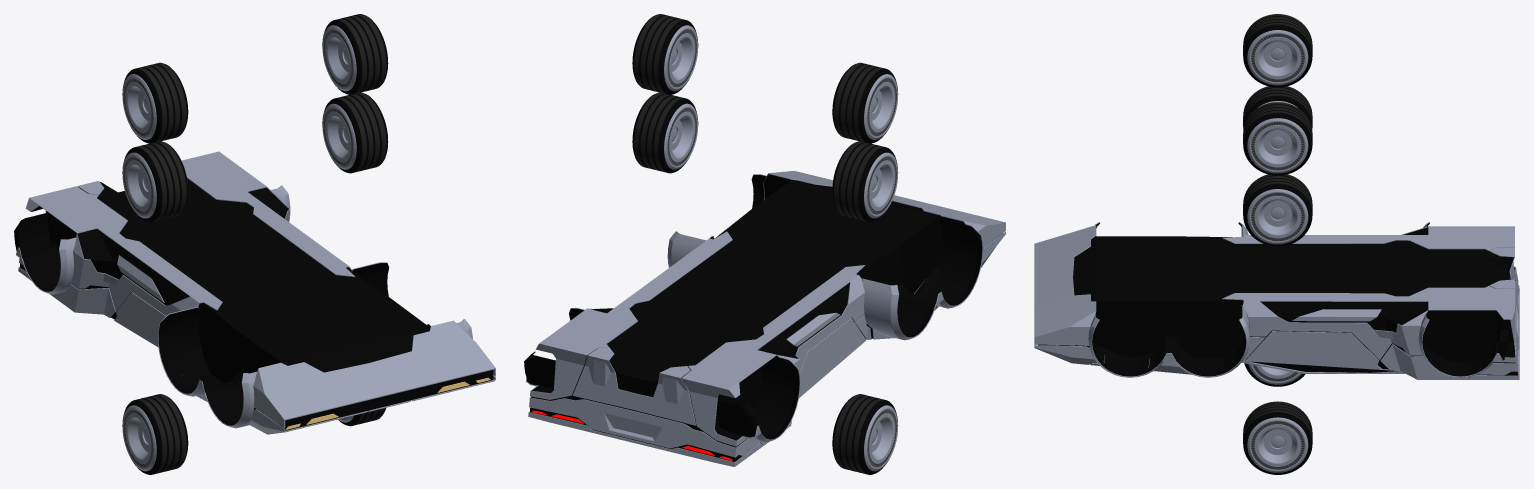
File: test_car_baked.fbx
The picture shows the model from 3 angles, left to right: view 1: azimuth 30°, elevation 25°; view 2: azimuth 150°, elevation 25°; view 3: azimuth 270°, elevation 25°; orthographic projection. The views are drawn at different scales.
Parts seen in each view (by area): view 1: Cube.012, Cube.011, Circle.003, Circle.001, SFV_wheel_01|Plane.004|Dupli|2, SFV_wheel_01.003|Plane.004|Dupli|2, SFV_wheel_01.002|Plane.004|Dupli|2, SFV_wheel_01.004|Plane.004|Dupli|2, SFV_wheel_01.001|Plane.004|Dupli|2, SFV_wheel_01.001|Plane.002|Dupli|, SFV_wheel_01.003|Plane.002|Dupli|, SFV_wheel_01.002|Plane.002|Dupli| (+13 smaller); view 2: Cube.012, Cube.011, Circle.003, Circle.001, Circle.002, SFV_wheel_01.001|Plane.004|Dupli|2, SFV_wheel_01.002|Plane.004|Dupli|2, SFV_wheel_01.003|Plane.004|Dupli|2, SFV_wheel_01|Plane.004|Dupli|2, SFV_wheel_01.004|Plane.004|Dupli|2, SFV_wheel_01.003|Plane.002|Dupli|, SFV_wheel_01.004|Plane.002|Dupli| (+10 smaller); view 3: Cube.012, Cube.011, Circle.003, SFV_wheel_01.004|Plane.006|Dupli|4, SFV_wheel_01.003|Plane.006|Dupli|4, SFV_wheel_01.005|Plane.006|Dupli|4, SFV_wheel_01|Plane.006|Dupli|4, Circle.001, SFV_wheel_01.005|Plane.002|Dupli|, SFV_wheel_01.003|Plane.002|Dupli|, SFV_wheel_01.004|Plane.002|Dupli|, SFV_wheel_01|Plane.002|Dupli| (+14 smaller).
Part boxes in pixels (x1,y1,x2,y2): Cube.012: [20, 178, 493, 430]; Cube.011: [18, 151, 495, 434]; Circle.003: [20, 186, 463, 425]; Circle.001: [16, 185, 472, 428]; SFV_wheel_01|Plane.004|Dupli|2: [136, 62, 186, 142]; SFV_wheel_01.003|Plane.004|Dupli|2: [335, 14, 386, 94]; SFV_wheel_01.002|Plane.004|Dupli|2: [136, 394, 186, 474]; SFV_wheel_01.004|Plane.004|Dupli|2: [336, 92, 386, 172]; SFV_wheel_01.001|Plane.004|Dupli|2: [136, 141, 186, 221]; SFV_wheel_01.001|Plane.002|Dupli|: [122, 142, 188, 221]; SFV_wheel_01.003|Plane.002|Dupli|: [322, 15, 388, 94]; SFV_wheel_01.002|Plane.002|Dupli|: [122, 395, 188, 474]; Cube.012: [530, 174, 1002, 461]; Cube.011: [528, 171, 1005, 466]; Circle.003: [526, 175, 982, 439]; Circle.001: [525, 174, 983, 442]; Circle.002: [524, 351, 757, 436]; SFV_wheel_01.001|Plane.004|Dupli|2: [834, 141, 883, 221]; SFV_wheel_01.002|Plane.004|Dupli|2: [834, 394, 884, 474]; SFV_wheel_01.003|Plane.004|Dupli|2: [634, 14, 684, 94]; SFV_wheel_01|Plane.004|Dupli|2: [834, 62, 884, 142]; SFV_wheel_01.004|Plane.004|Dupli|2: [634, 92, 684, 172]; SFV_wheel_01.003|Plane.002|Dupli|: [632, 15, 698, 94]; SFV_wheel_01.004|Plane.002|Dupli|: [632, 93, 698, 173]; Cube.012: [1038, 227, 1518, 378]; Cube.011: [1034, 225, 1519, 379]; Circle.003: [1092, 222, 1504, 376]; SFV_wheel_01.004|Plane.006|Dupli|4: [1254, 196, 1301, 238]; SFV_wheel_01.003|Plane.006|Dupli|4: [1254, 125, 1301, 167]; SFV_wheel_01.005|Plane.006|Dupli|4: [1254, 424, 1301, 466]; SFV_wheel_01|Plane.006|Dupli|4: [1254, 37, 1301, 79]; Circle.001: [1088, 222, 1504, 377]; SFV_wheel_01.005|Plane.002|Dupli|: [1243, 403, 1312, 474]; SFV_wheel_01.003|Plane.002|Dupli|: [1243, 104, 1312, 175]; SFV_wheel_01.004|Plane.002|Dupli|: [1243, 175, 1312, 246]; SFV_wheel_01|Plane.002|Dupli|: [1243, 16, 1312, 87].
Size of the model in its own units: 2.81 by 4.6 by 5.59.
